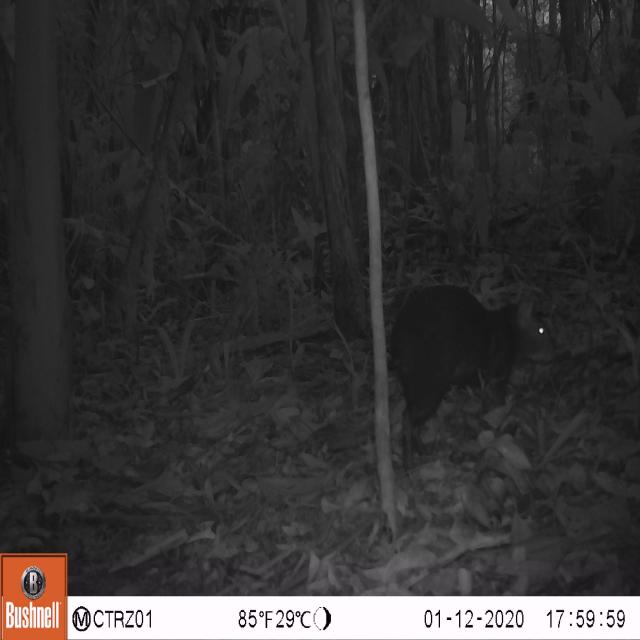Black Agouti: (359, 265, 575, 456)
